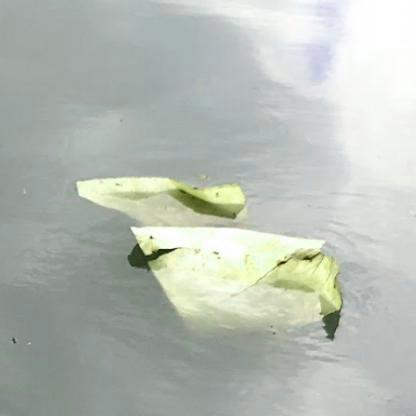Trash: (72, 169, 346, 353)
